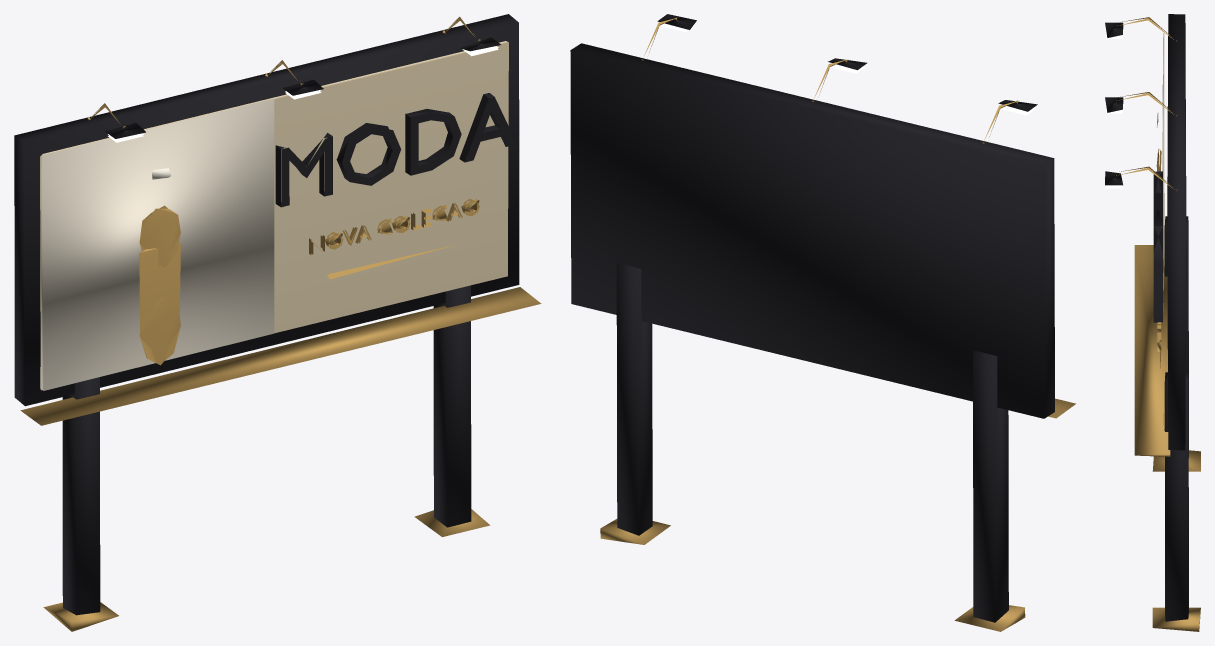
File: lod_billboard_fashion.glb
3 views of the same model, side by side, from view 1: azimuth 30°, elevation 25°; view 2: azimuth 150°, elevation 25°; view 3: azimuth 270°, elevation 25° (orthographic). The views are drawn at different scales.
Visible parts, largest first — view 1: billboard_fashion; view 2: billboard_fashion; view 3: billboard_fashion.
Boxes of the visible parts, box(x1,y1,x2,y2) form: billboard_fashion: box(14, 14, 541, 631); billboard_fashion: box(570, 14, 1075, 631); billboard_fashion: box(1105, 14, 1200, 631).
Bounding box in the file's own units: 6.2 × 6.21 × 1.19.
